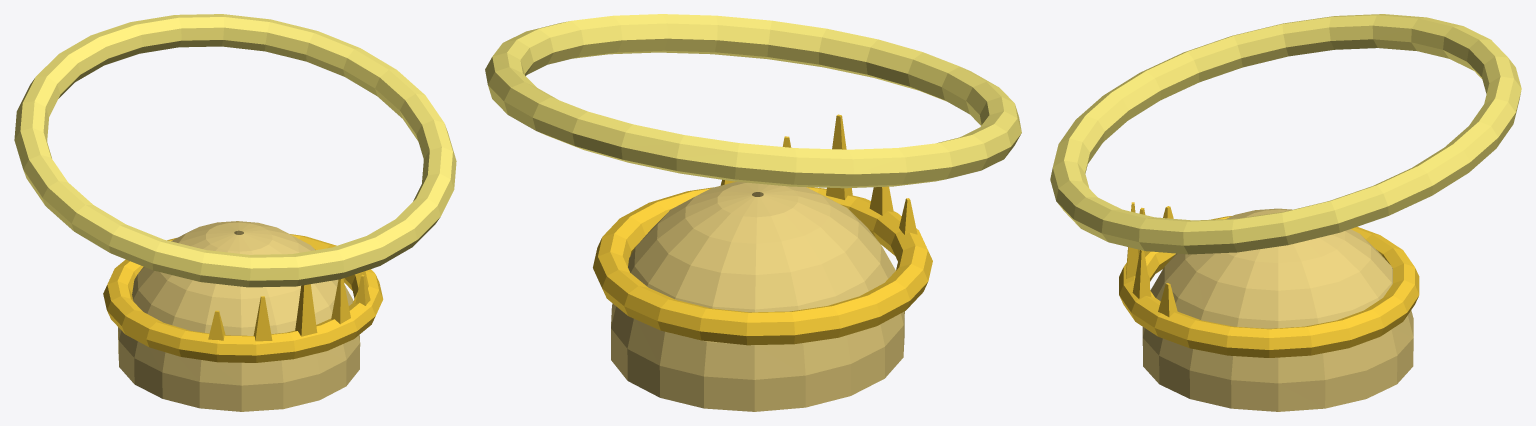
The model's file is Skin_PaladinCrown.obj.
3 renders of one model, left to right at view 1: azimuth 30°, elevation 25°; view 2: azimuth 150°, elevation 25°; view 3: azimuth 270°, elevation 25°, orthographic. The views are drawn at different scales.
Parts seen in each view (by area): view 1: Skin_PaladinCrown_EmissiveCore, Skin_PaladinCrown_BaseArmor, Skin_PaladinCrown_TrimMetal; view 2: Skin_PaladinCrown_BaseArmor, Skin_PaladinCrown_EmissiveCore, Skin_PaladinCrown_TrimMetal; view 3: Skin_PaladinCrown_EmissiveCore, Skin_PaladinCrown_BaseArmor, Skin_PaladinCrown_TrimMetal.
Part boxes in pixels (box(x1,y1,x2,y2)): Skin_PaladinCrown_EmissiveCore: box(14, 14, 456, 287); Skin_PaladinCrown_BaseArmor: box(118, 221, 360, 411); Skin_PaladinCrown_TrimMetal: box(103, 234, 383, 362); Skin_PaladinCrown_BaseArmor: box(611, 182, 904, 411); Skin_PaladinCrown_EmissiveCore: box(485, 14, 1021, 188); Skin_PaladinCrown_TrimMetal: box(593, 114, 932, 345); Skin_PaladinCrown_EmissiveCore: box(1050, 14, 1521, 254); Skin_PaladinCrown_BaseArmor: box(1142, 208, 1413, 411); Skin_PaladinCrown_TrimMetal: box(1119, 202, 1419, 357).
Size of the model in its own units: 0.432 by 0.2773 by 0.4226.
